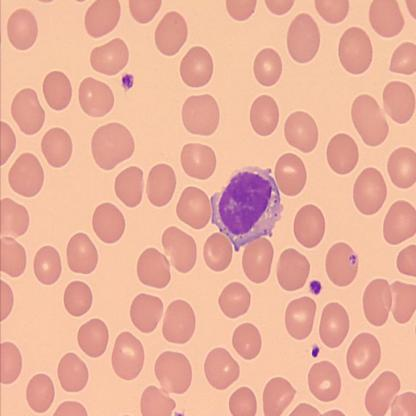Atypical lymphocyte: (211, 167, 284, 252)
